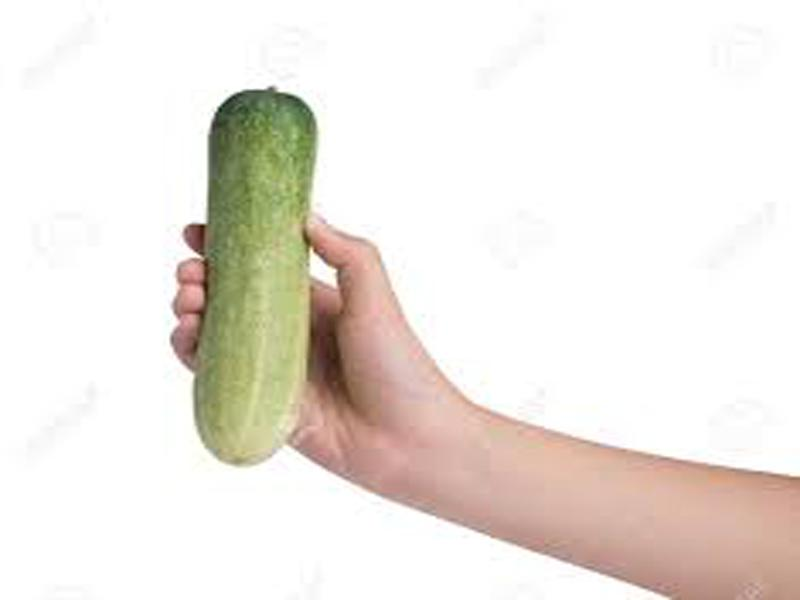Cucumber: (197, 84, 323, 468)
